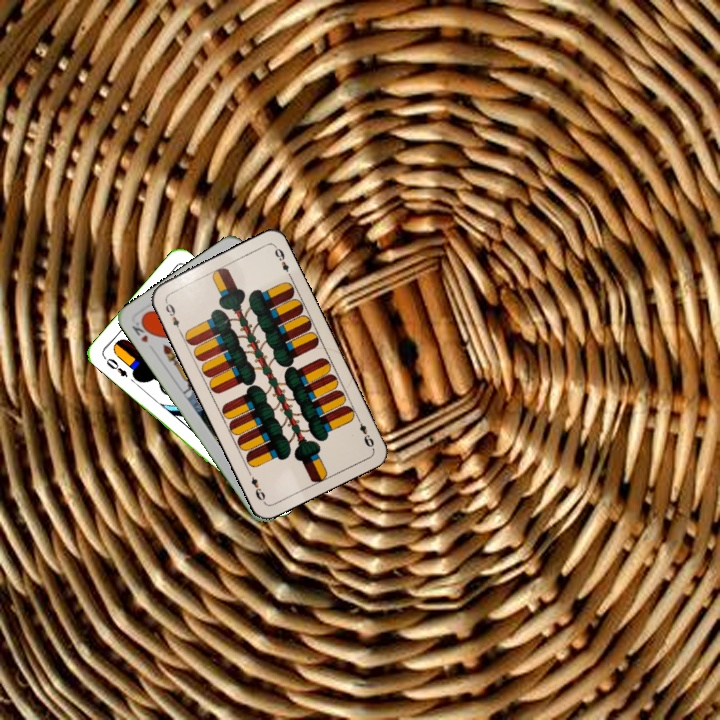E9: (161, 296, 184, 335), (353, 413, 377, 450)
EO: (100, 353, 130, 380)
HK: (128, 315, 154, 346)
